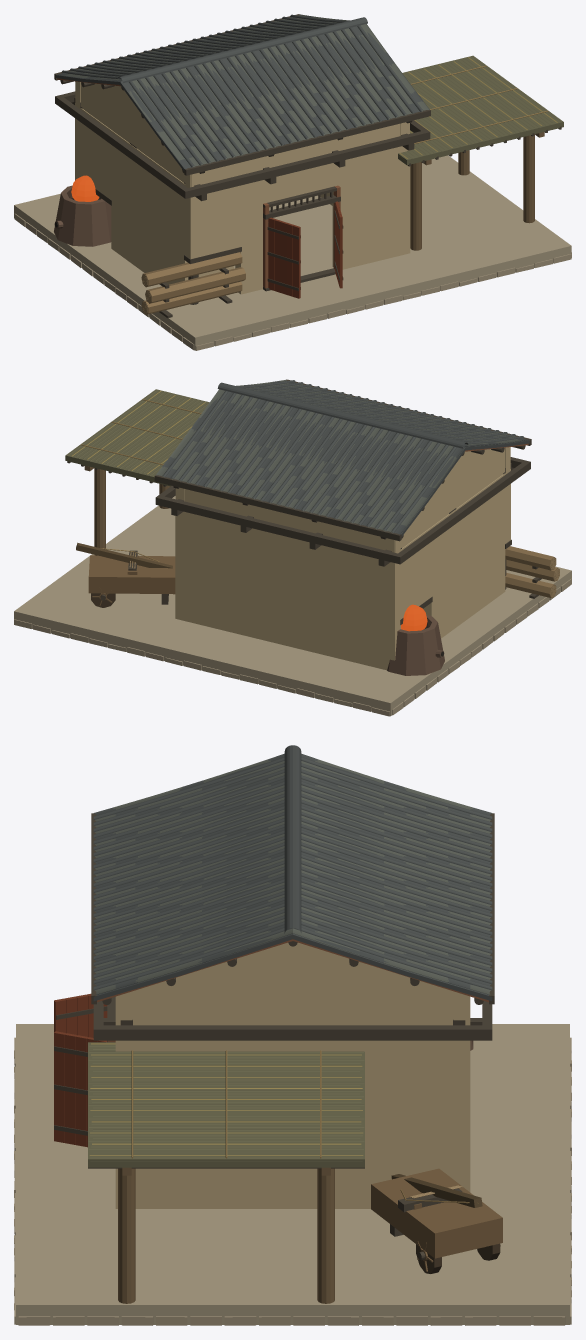
File: workshop.glb
The picture shows the model from 3 angles, top to bottom: view 1: azimuth 30°, elevation 25°; view 2: azimuth 150°, elevation 25°; view 3: azimuth 270°, elevation 25°; orthographic projection. The views are drawn at different scales.
Visible parts, largest first — view 1: workshop; view 2: workshop; view 3: workshop.
Part boxes in pixels (box(x1,y1,x2,y2)): workshop: box(14, 14, 571, 350); workshop: box(14, 379, 571, 716); workshop: box(14, 745, 571, 1325).
Bounding box in the file's own units: 19 × 9.04 × 14.71.
